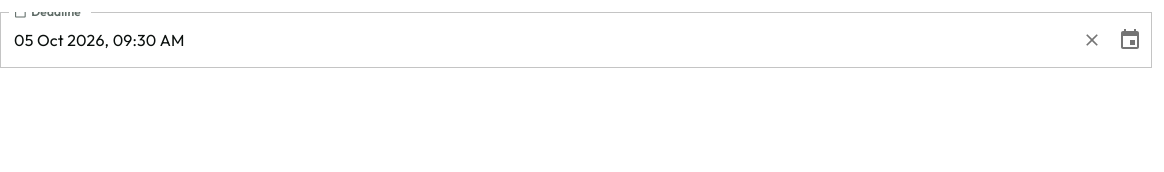
Scenario: IsoDateTimeField › passes on a year typed over the deleted one, and withdraws the problem
The image size is (1164, 172).
Press the mouse on the number field named "Year" at (86, 40), box [67,30,105,50]
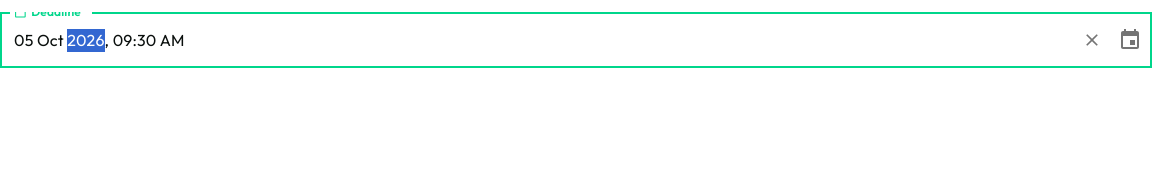
Press Delete in the number field named "Year", box [67,30,105,50]
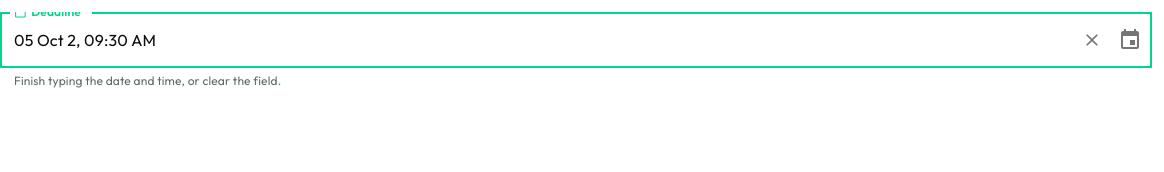
Check: the text "Finish typing the date and time, or clear the field." is shown, box [14,73,281,88]
Clear the number field named "Year" at (72, 40), box [67,30,76,50]
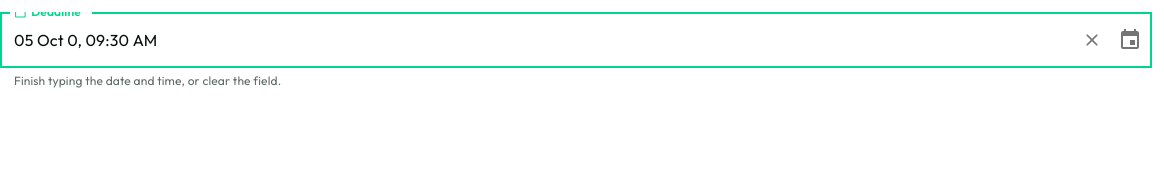
Clear the number field named "Year" at (72, 40), box [67,30,77,50]
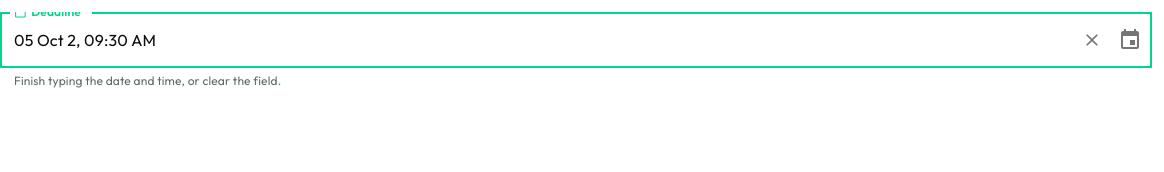
Clear the number field named "Year" at (72, 40), box [67,30,76,50]
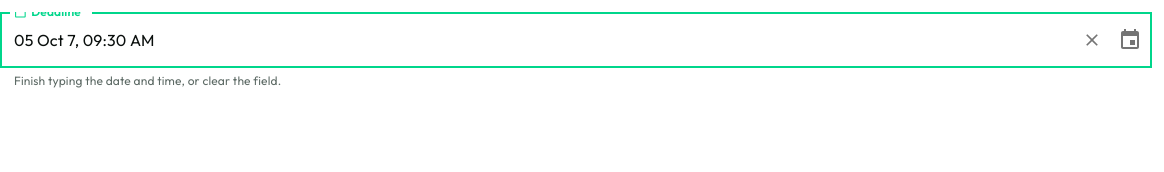
Clear the number field named "Year" at (71, 40), box [67,30,75,50]
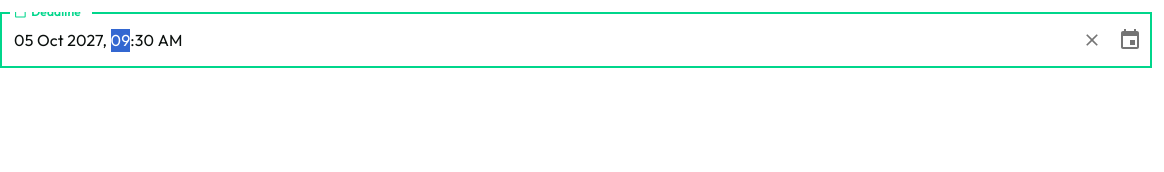
Check: the text "Finish typing the date and time, or clear the field." is gone
